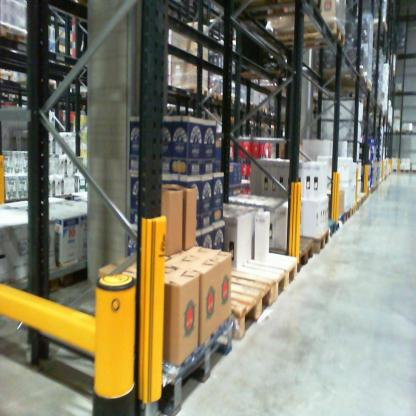pallet: (49, 271, 232, 413), (217, 256, 275, 344), (232, 245, 297, 307), (273, 17, 350, 53), (270, 227, 314, 274), (237, 63, 295, 91), (313, 62, 369, 88), (307, 79, 373, 96), (0, 19, 32, 53), (293, 224, 327, 255), (28, 77, 60, 96), (317, 218, 337, 239), (328, 210, 345, 233), (225, 93, 245, 110), (370, 20, 390, 36), (208, 89, 222, 105), (191, 90, 211, 100), (248, 102, 263, 115), (259, 100, 268, 117), (342, 205, 351, 221), (238, 101, 251, 111)
